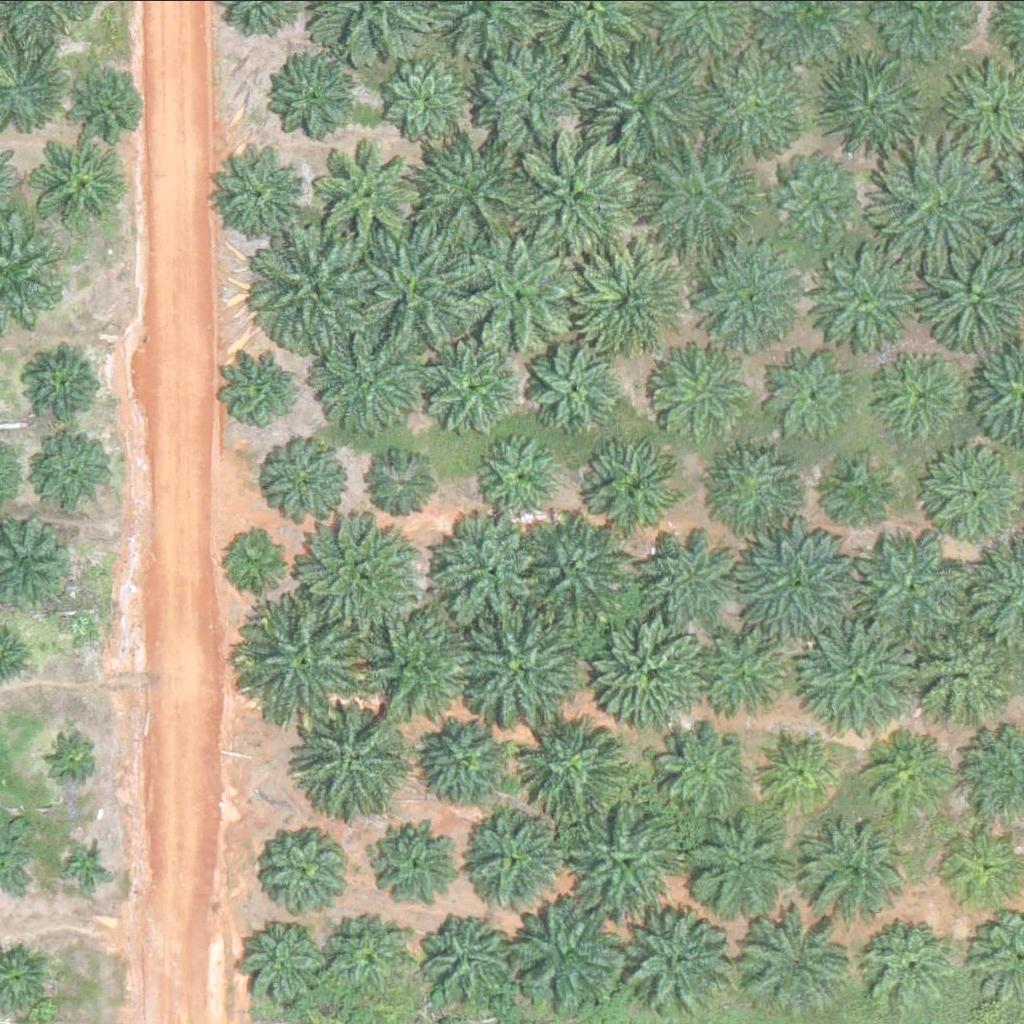Kelapa_Sawit: (874, 148, 1000, 273), (513, 126, 639, 251), (253, 227, 379, 352), (248, 597, 374, 722), (347, 223, 472, 348), (575, 245, 689, 358), (303, 509, 417, 622), (516, 713, 630, 826), (584, 49, 697, 162), (646, 135, 759, 248), (460, 234, 573, 347), (809, 241, 922, 354), (308, 320, 421, 433), (738, 527, 851, 640), (366, 606, 479, 719), (467, 615, 580, 728), (587, 618, 700, 731), (647, 720, 760, 833), (805, 611, 919, 723), (681, 809, 795, 921), (797, 812, 911, 924), (513, 903, 627, 1015), (700, 51, 813, 163), (413, 134, 526, 246), (698, 244, 811, 356), (856, 529, 969, 641), (518, 510, 631, 622), (431, 515, 544, 627), (572, 804, 685, 916), (479, 46, 580, 146), (322, 139, 423, 239), (211, 141, 312, 241), (625, 524, 726, 624), (409, 704, 510, 804), (253, 820, 354, 920), (745, 920, 846, 1020), (587, 435, 687, 535), (908, 620, 1008, 720), (307, 709, 407, 809), (463, 807, 563, 907), (632, 916, 732, 1016), (416, 911, 516, 1011), (265, 437, 354, 525), (755, 726, 843, 814), (827, 59, 915, 147), (877, 350, 965, 438), (423, 346, 511, 434), (477, 436, 565, 524), (701, 637, 789, 725), (867, 734, 955, 822), (369, 825, 457, 913), (863, 923, 951, 1011), (33, 143, 121, 231), (219, 346, 307, 433), (653, 344, 741, 431), (527, 345, 615, 432), (708, 443, 796, 530), (324, 906, 412, 993), (241, 918, 329, 1005), (370, 448, 446, 523), (276, 58, 352, 133), (393, 60, 469, 135), (779, 353, 855, 428), (30, 343, 106, 418), (34, 432, 110, 507), (769, 159, 844, 234), (222, 526, 285, 589), (827, 458, 890, 521), (74, 73, 137, 136), (52, 735, 103, 785), (61, 842, 112, 892)
